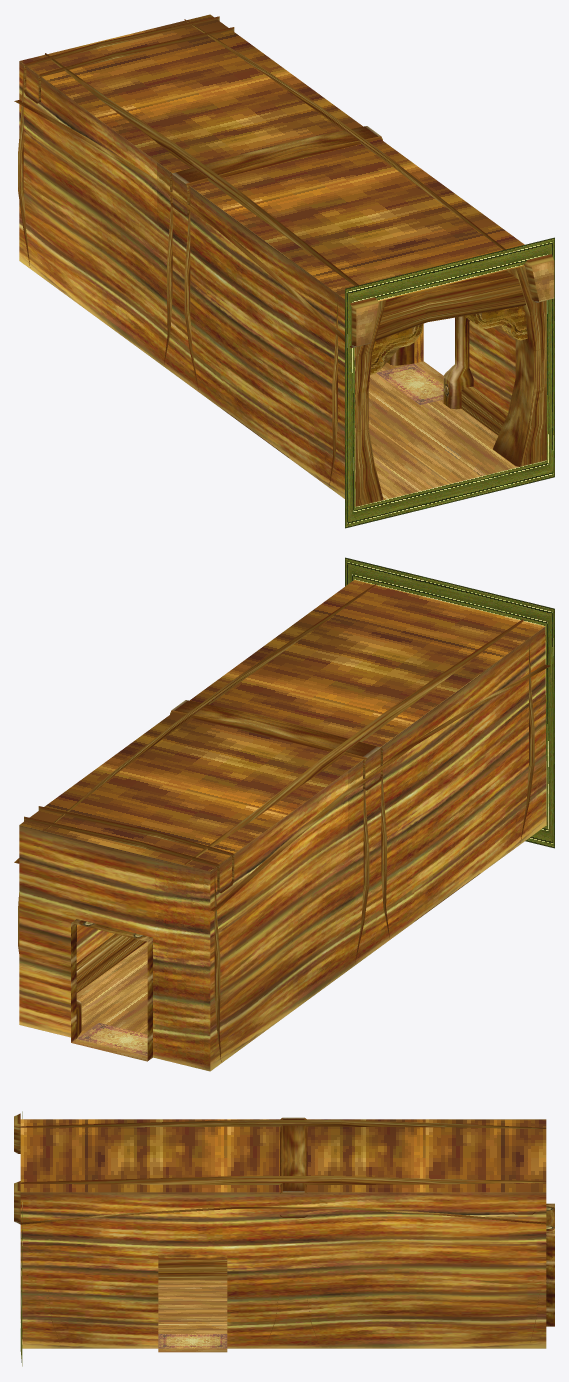
Rendered from room_58.glb.
3 views of the same model, one above another, from view 1: azimuth 30°, elevation 25°; view 2: azimuth 150°, elevation 25°; view 3: azimuth 270°, elevation 25° (orthographic). The views are drawn at different scales.
Parts seen in each view (by area): view 1: room_58; view 2: room_58; view 3: room_58.
Part boxes in pixels (bbox=[...]): room_58: bbox=[14, 14, 554, 528]; room_58: bbox=[14, 557, 554, 1071]; room_58: bbox=[14, 1111, 554, 1366].
Bounding box in the file's own units: 550 × 600 × 1569.
Materials: 9 (9 with a texture image).
